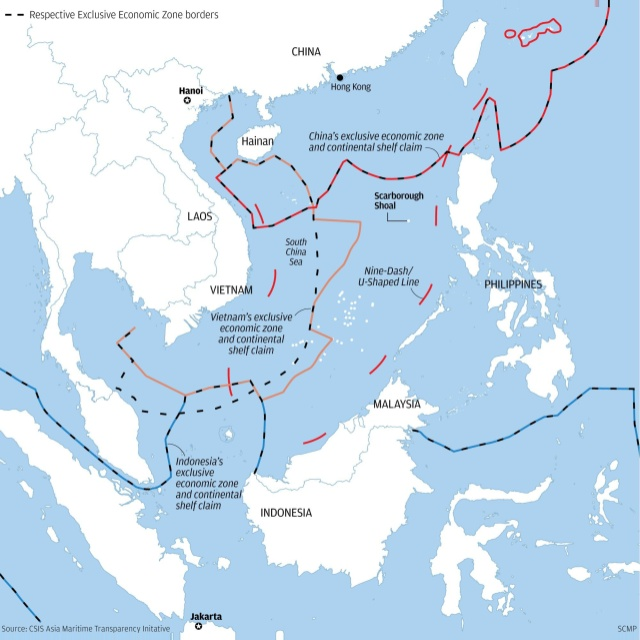Nine Dash Line: (219, 76, 494, 455)
